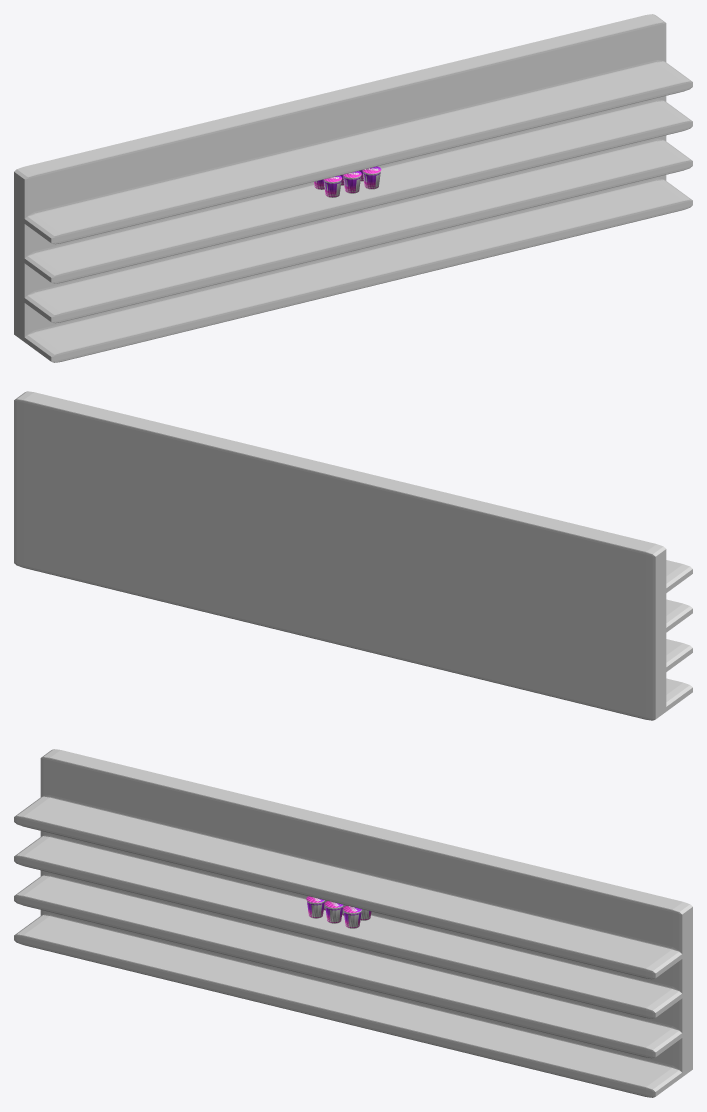
Rendered from ramen1.fbx.
3 views of the same model, one above another, from view 1: azimuth 30°, elevation 25°; view 2: azimuth 150°, elevation 25°; view 3: azimuth 330°, elevation 25° (orthographic).
Parts seen in each view (by area): view 1: rack, cup_ramen; view 2: rack; view 3: rack, cup_ramen.
Part boxes in pixels (x1,y1,x2,y2): rack: (14, 14, 692, 362); cup_ramen: (314, 166, 381, 197); rack: (14, 391, 692, 720); rack: (14, 749, 692, 1097); cup_ramen: (306, 896, 371, 928).
Bounding box in the file's own units: 400 × 100 × 40.7.
Materials: 2 (1 with a texture image).
